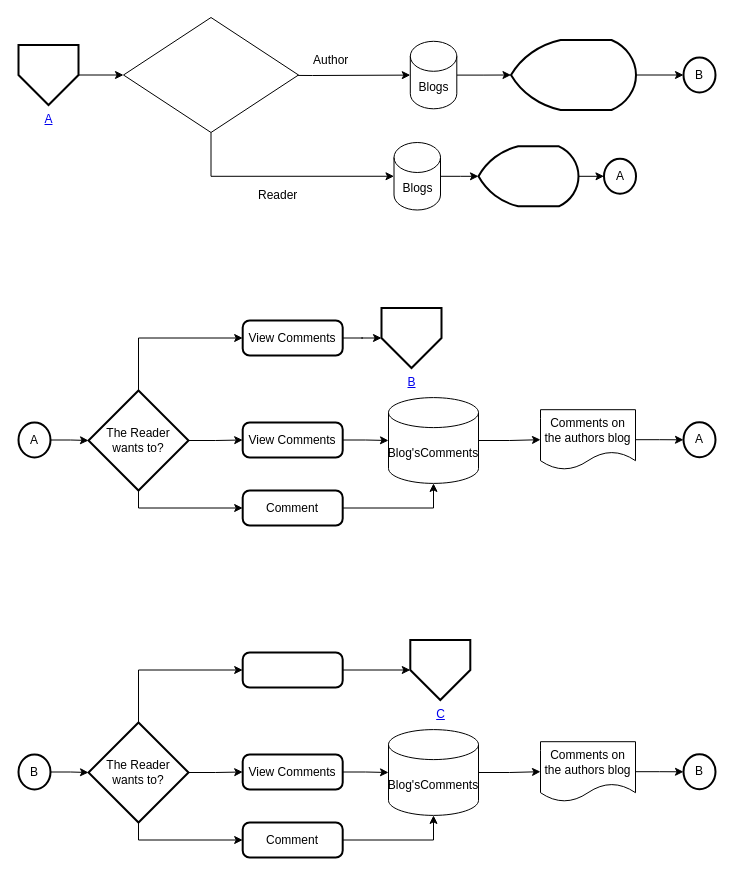
Image size: 733x876. Some labels were removed from this diagram. Each missing label, with the box of its shape:
Check Profile: (241, 651, 343, 688)
Display blogs posts: (477, 145, 579, 207)
Display blogs posts/Upload blog feature: (510, 38, 636, 110)
Is the user Author or Reader?: (122, 16, 298, 132)
